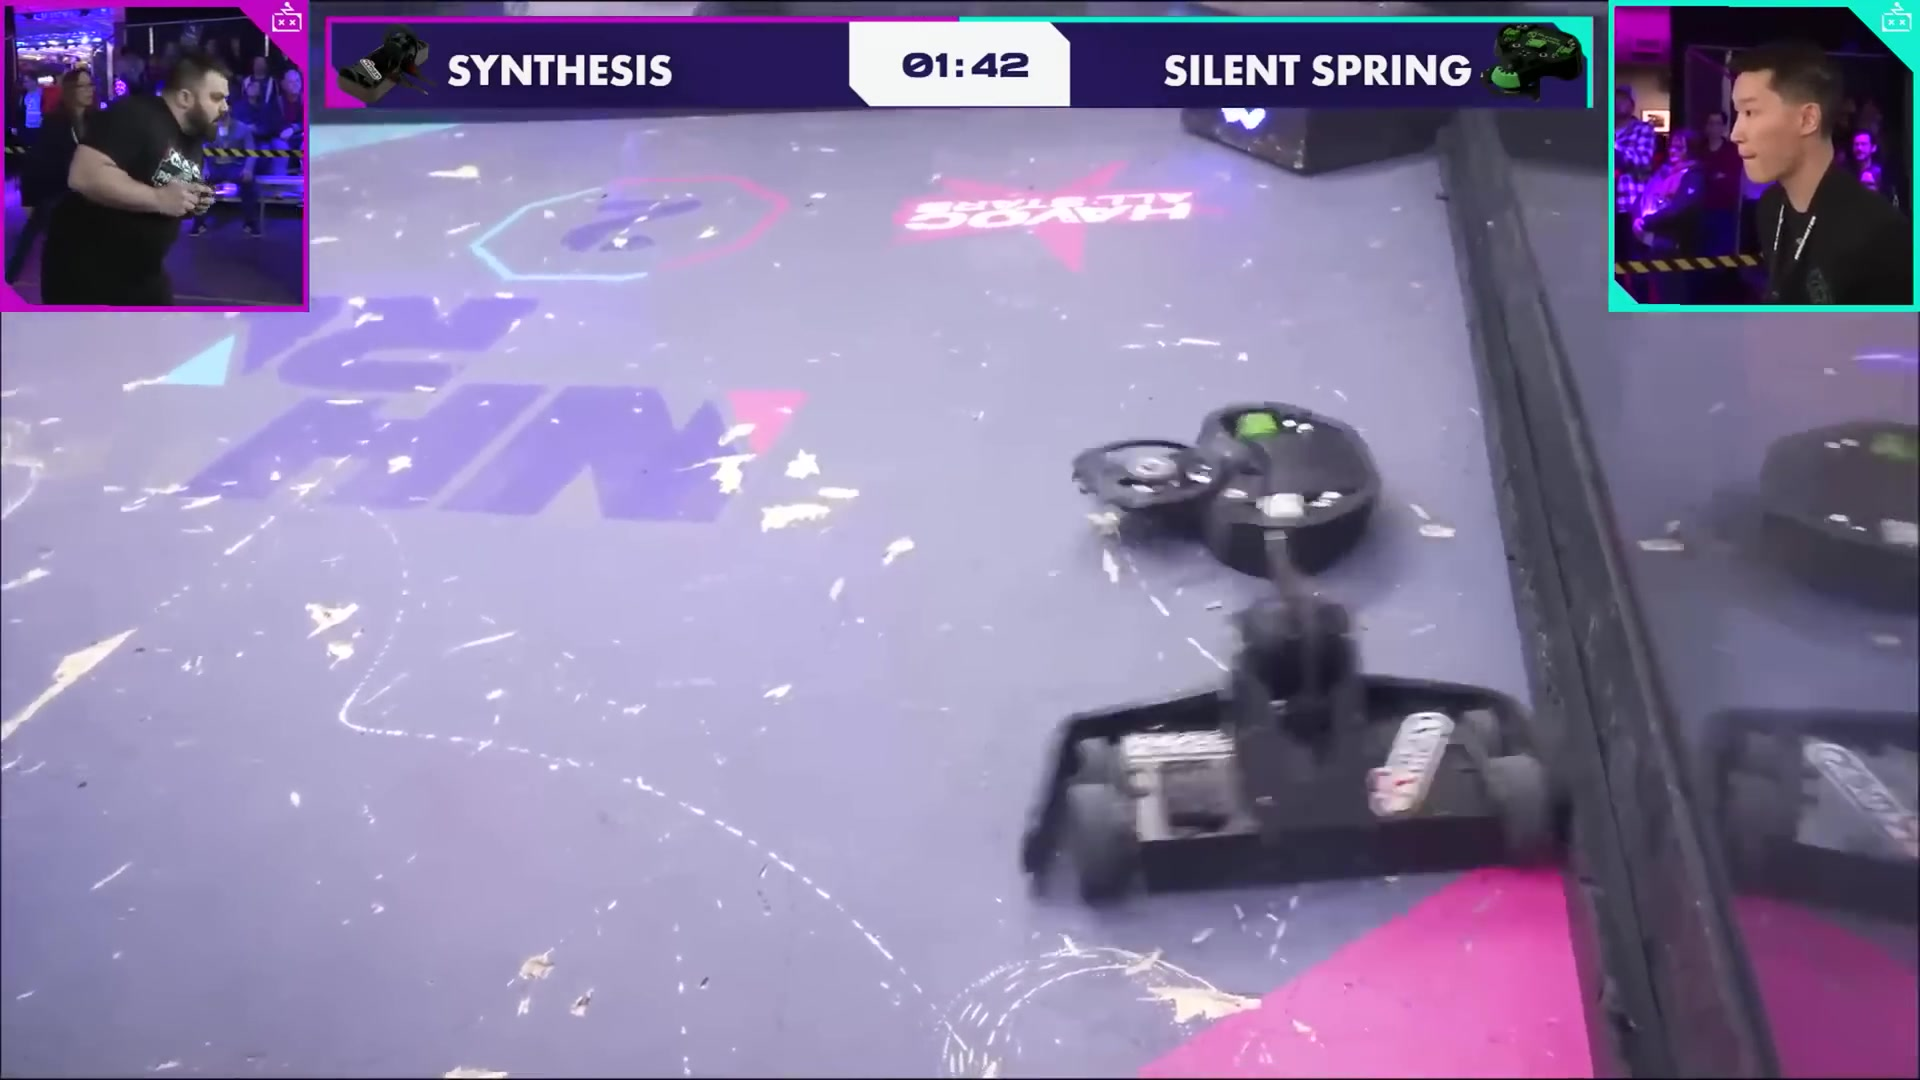combatbot: (1023, 599, 1586, 881), (1062, 401, 1382, 570)
housebot: (1179, 0, 1435, 179)
